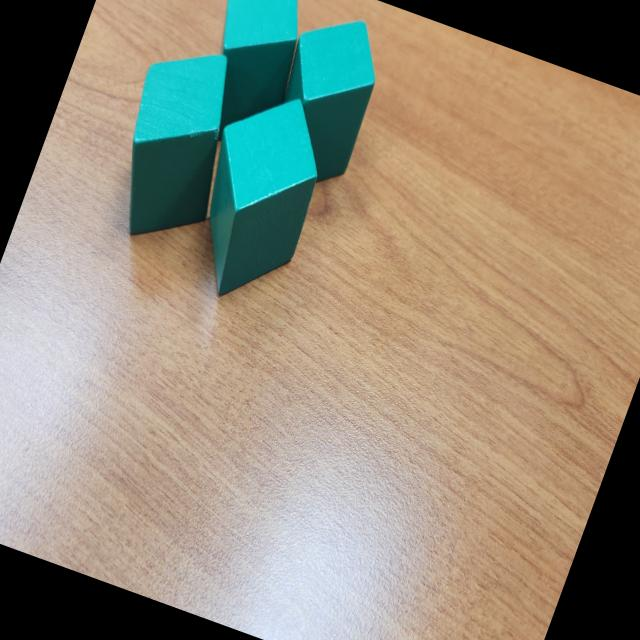green: (168, 78, 346, 316), (91, 32, 262, 259), (252, 1, 397, 193), (178, 0, 325, 157)
